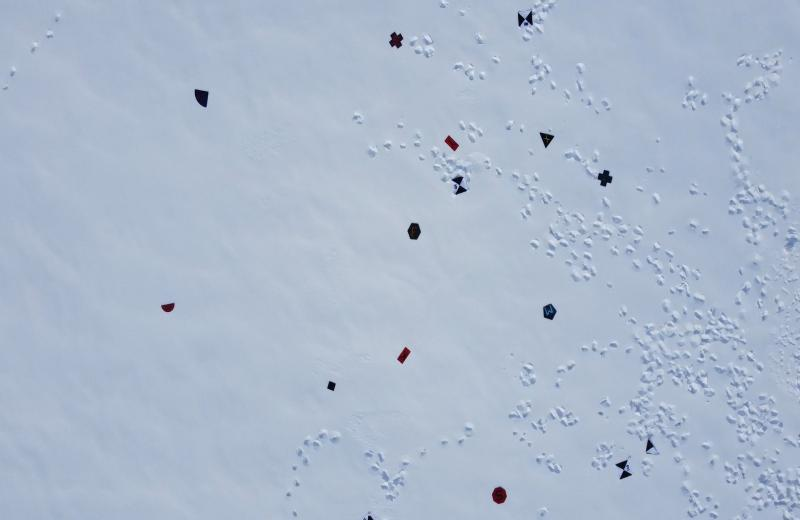Cross: (388, 31, 404, 50), (597, 168, 613, 186)
Hexagon: (407, 221, 422, 241)
Octagon: (492, 485, 508, 504)
Pentagon: (542, 303, 557, 321)
Quarter Circle: (194, 87, 210, 112)
Rectangle: (444, 133, 460, 152), (396, 346, 412, 364)
Semi Circle: (160, 302, 176, 314)
Square: (326, 380, 337, 393)
Triangle: (539, 130, 555, 149)
